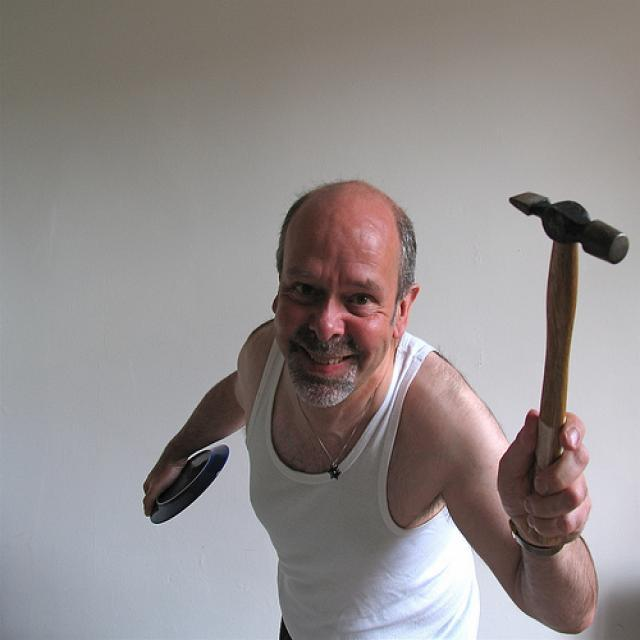hammer: (500, 184, 636, 476)
